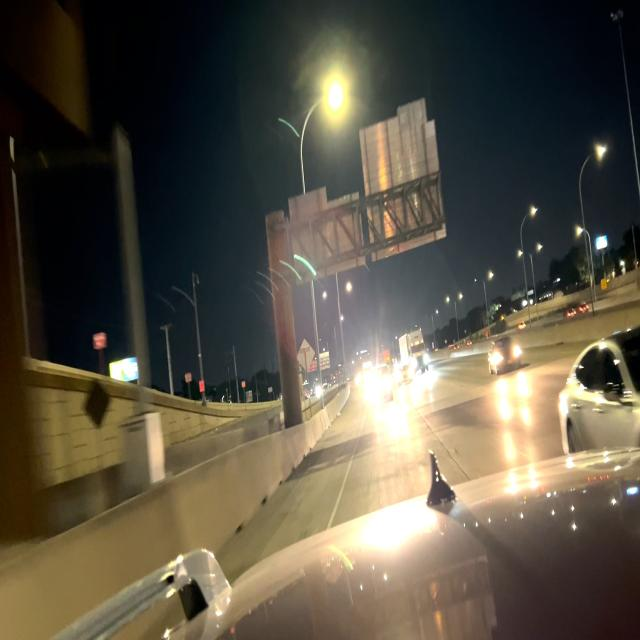back-of-sign: (287, 100, 447, 283), (298, 336, 316, 376)
